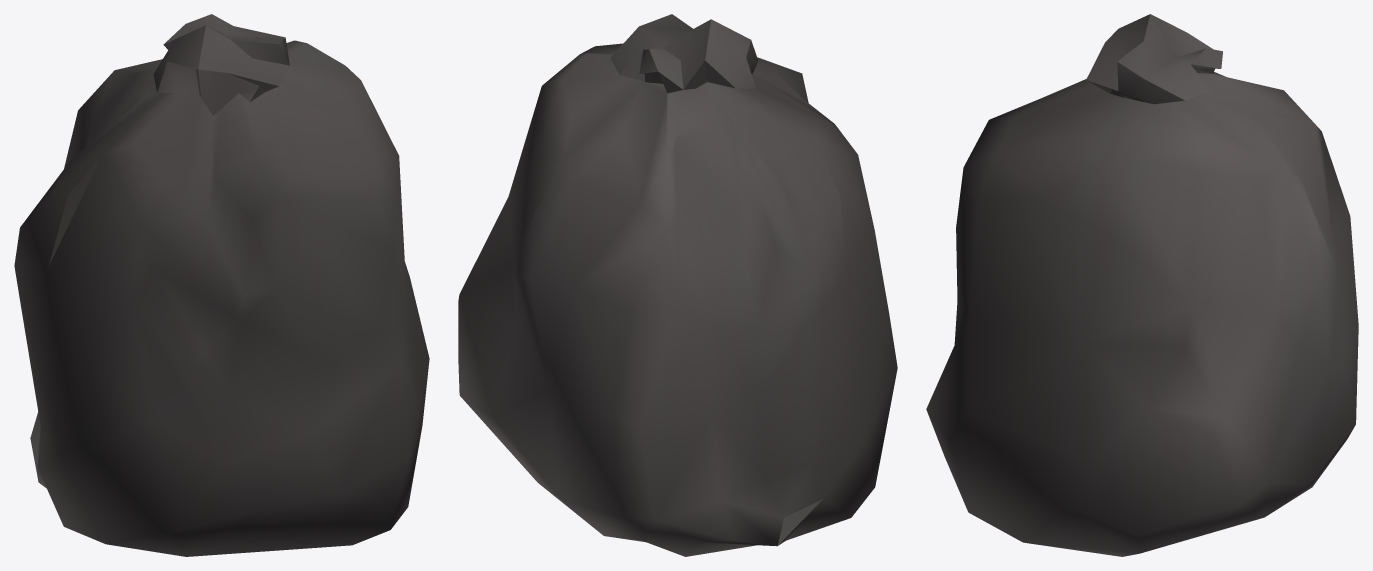
Rendered from Garbage.fbx.
The picture shows the model from 3 angles, left to right: view 1: azimuth 30°, elevation 25°; view 2: azimuth 150°, elevation 25°; view 3: azimuth 270°, elevation 25°; orthographic projection.
Visible parts, largest first — view 1: bag1_003; view 2: bag1_003; view 3: bag1_003.
Boxes of the visible parts, x1=… form: bag1_003: x1=14, y1=14, x2=429, y2=556; bag1_003: x1=458, y1=14, x2=897, y2=556; bag1_003: x1=926, y1=14, x2=1358, y2=556.
Size of the model in its own units: 1588 by 1929 by 1605.
